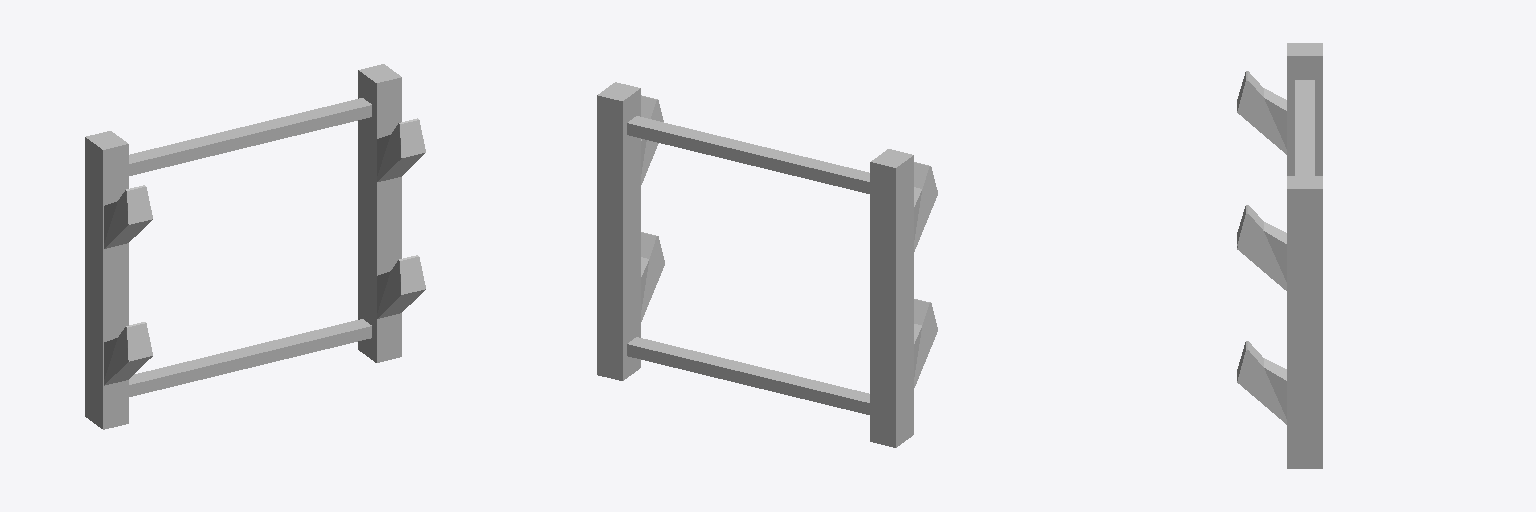
File: stand_w_2.obj
3 renders of one model, left to right at view 1: azimuth 30°, elevation 25°; view 2: azimuth 150°, elevation 25°; view 3: azimuth 270°, elevation 25°, orthographic.
Parts seen in each view (by area): view 1: q_W_2; view 2: q_W_2; view 3: q_W_2.
Boxes of the visible parts, box(x1,y1,x2,y2) form: q_W_2: box(85, 64, 425, 429); q_W_2: box(597, 82, 937, 447); q_W_2: box(1237, 43, 1322, 468).
Bounding box in the file's own units: 0.7527 × 0.6735 × 0.1871.